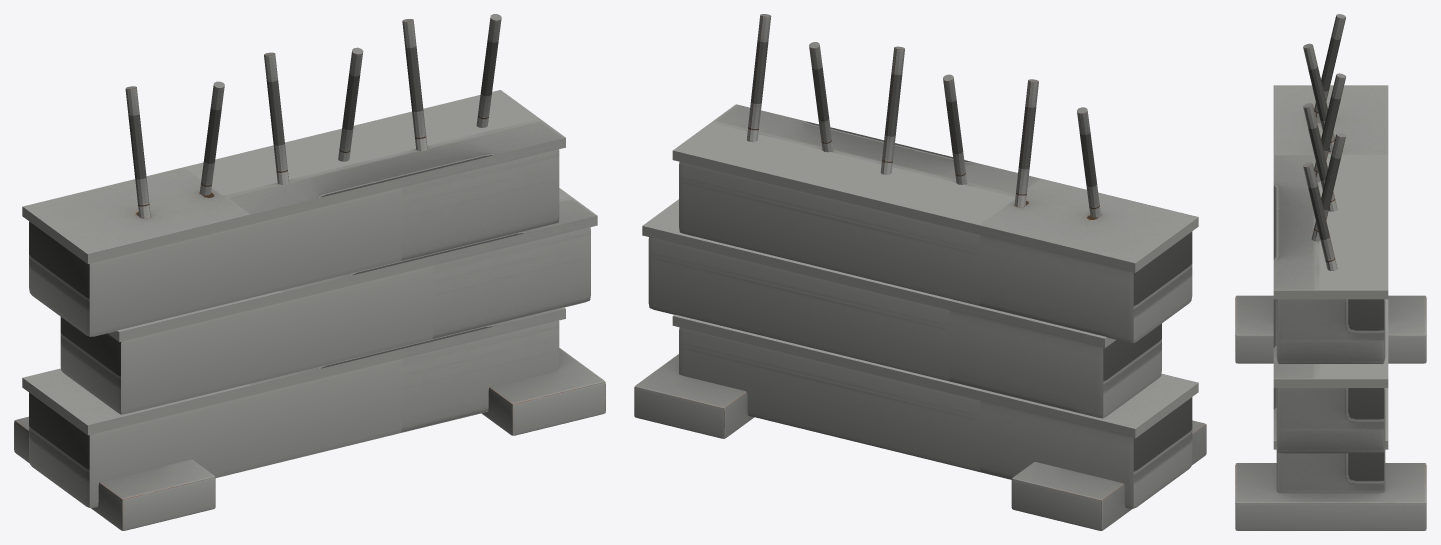
Rendered from DD_barricade_concrete.glb.
The picture shows the model from 3 angles, left to right: view 1: azimuth 30°, elevation 25°; view 2: azimuth 150°, elevation 25°; view 3: azimuth 270°, elevation 25°; orthographic projection. The views are drawn at different scales.
Visible parts, largest first — view 1: DD_barricade_concrete; view 2: DD_barricade_concrete; view 3: DD_barricade_concrete.
Part boxes in pixels (box(x1,y1,x2,y2)): DD_barricade_concrete: box(14, 14, 605, 530); DD_barricade_concrete: box(634, 14, 1206, 530); DD_barricade_concrete: box(1235, 14, 1426, 530).
Size of the model in its own units: 1.62 by 1.17 by 0.6.
Materials: 1 (1 with a texture image).
